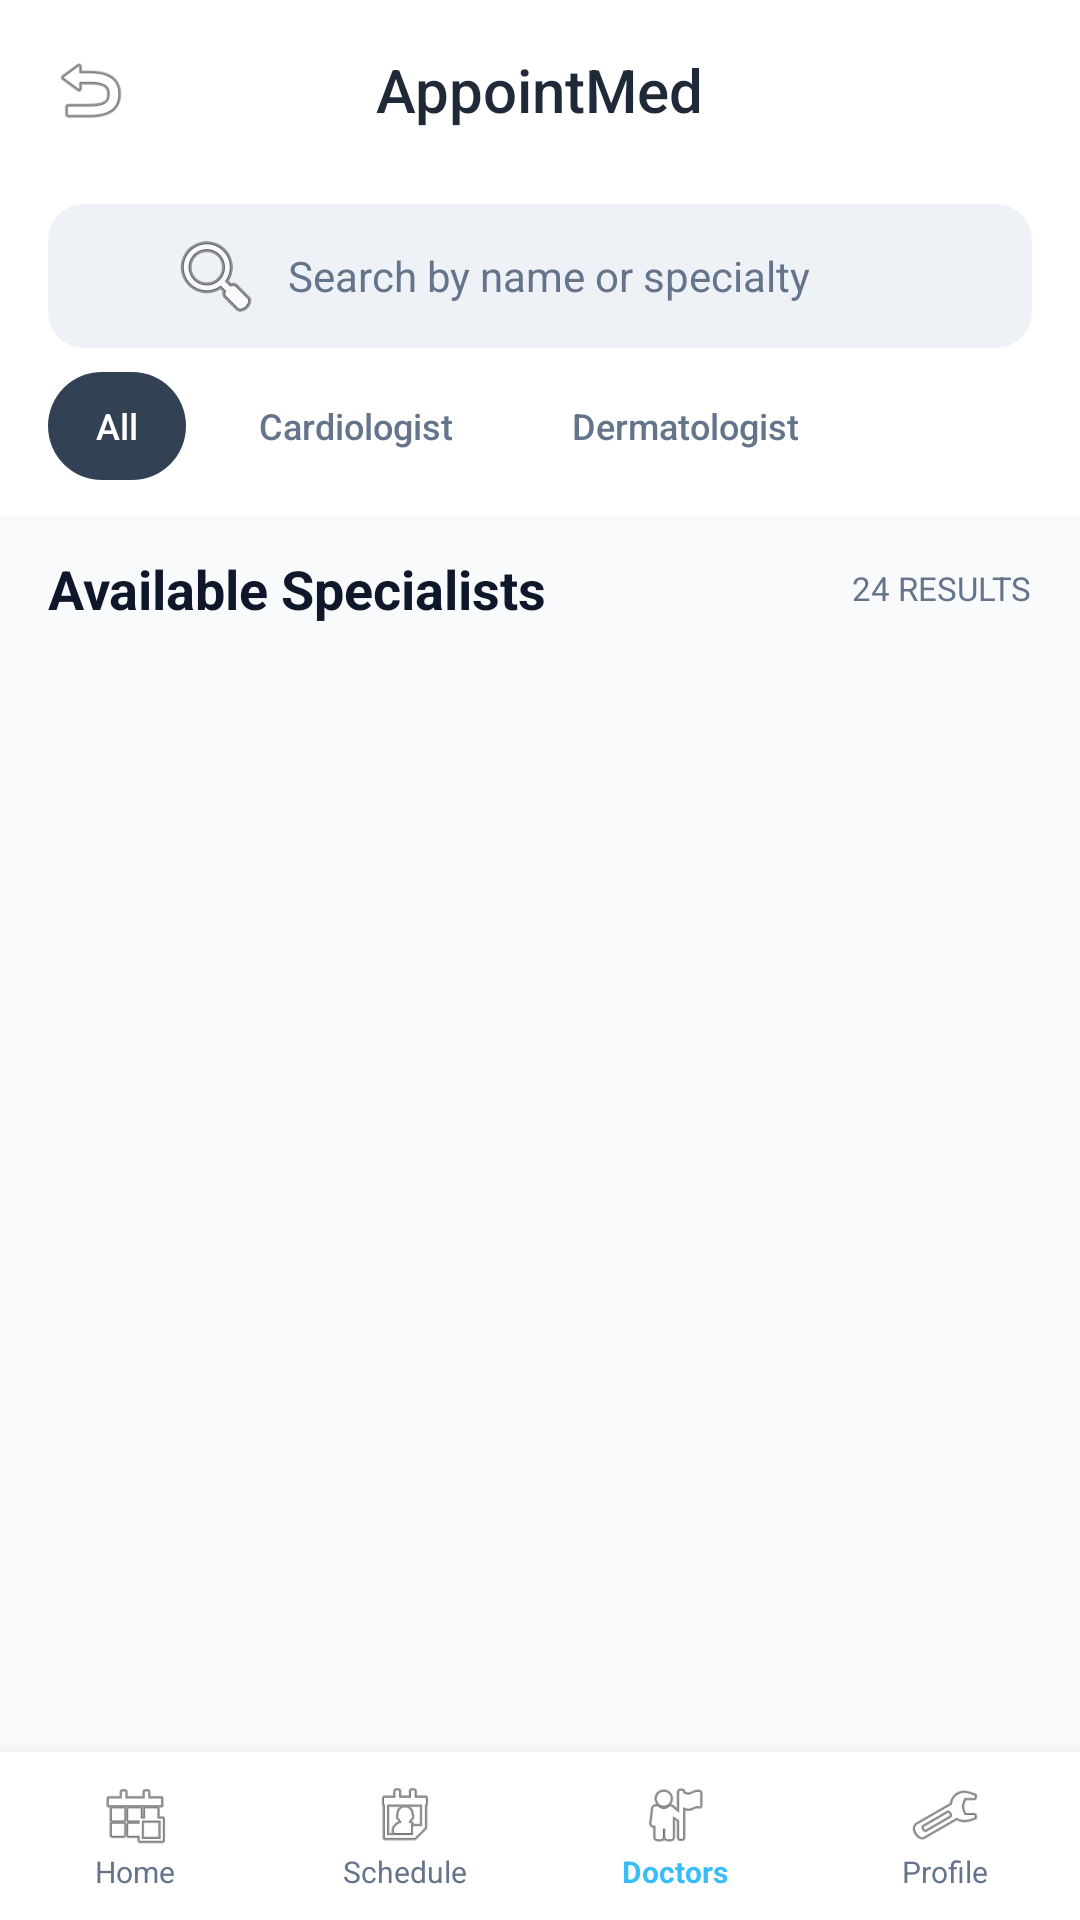

Screen size 1080w x 1920h. Icon name, then its box in pixels as (x1, y1, x2, y2):
Back: (61, 63, 122, 118)
